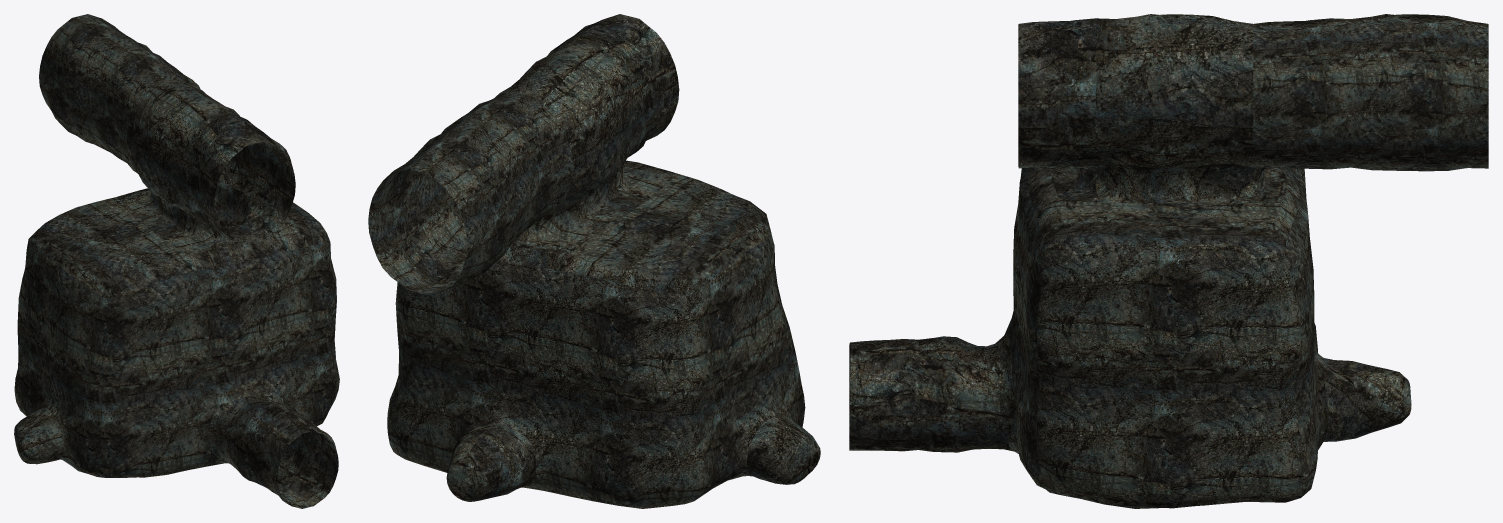
Rendered from 02_06_tunnel_trap_special.dae.
The picture shows the model from 3 angles, left to right: view 1: azimuth 30°, elevation 25°; view 2: azimuth 150°, elevation 25°; view 3: azimuth 270°, elevation 25°; orthographic projection. The views are drawn at different scales.
Parts seen in each view (by area): view 1: 02_06_tunnel_trap_special; view 2: 02_06_tunnel_trap_special; view 3: 02_06_tunnel_trap_special.
Part boxes in pixels (x1,y1,x2,y2): 02_06_tunnel_trap_special: (14,14,339,508); 02_06_tunnel_trap_special: (368,14,820,508); 02_06_tunnel_trap_special: (849,14,1488,508).
Bounding box in the file's own units: 15.91 × 16.35 × 21.75.
